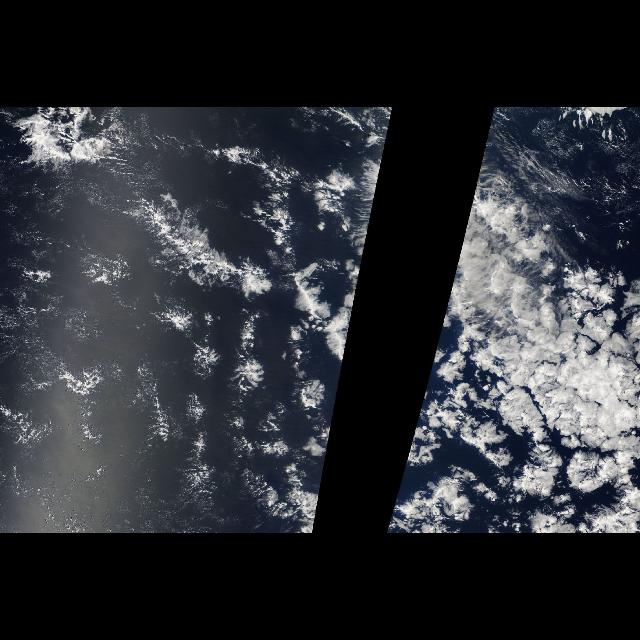Flower: (46, 173, 380, 531), (397, 272, 639, 520)
